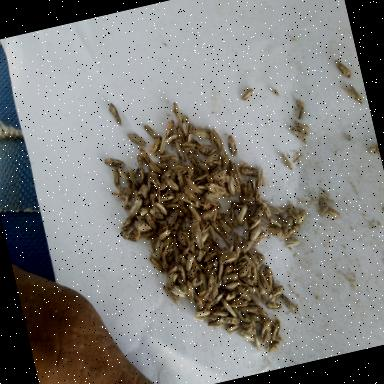pbw: (122, 195, 146, 220), (160, 112, 181, 140), (144, 134, 166, 160), (227, 289, 253, 310), (202, 272, 220, 302), (127, 128, 148, 152), (194, 288, 214, 312), (266, 316, 286, 340), (160, 170, 180, 194), (150, 237, 168, 263), (230, 162, 244, 195), (190, 124, 213, 144), (190, 135, 210, 158), (280, 291, 298, 316), (266, 284, 288, 304), (334, 56, 352, 80), (146, 251, 164, 275), (184, 172, 202, 196), (229, 196, 250, 216), (188, 218, 204, 244), (220, 296, 237, 320), (176, 198, 193, 222), (184, 260, 201, 284), (107, 101, 122, 128), (170, 282, 190, 302), (186, 151, 202, 176), (156, 242, 176, 262), (144, 158, 164, 178), (228, 243, 244, 268), (234, 282, 252, 304), (210, 126, 224, 154), (250, 179, 264, 207), (210, 218, 227, 241), (252, 166, 268, 190), (234, 204, 250, 228), (164, 270, 183, 290), (133, 154, 147, 181), (248, 263, 264, 286), (258, 268, 272, 294), (182, 184, 200, 204), (194, 243, 212, 263), (164, 208, 182, 228), (138, 145, 153, 169), (118, 215, 138, 233), (266, 220, 284, 240), (216, 250, 238, 266), (182, 122, 198, 144), (158, 249, 172, 274), (185, 278, 199, 303), (221, 231, 236, 254), (202, 190, 220, 209), (196, 156, 213, 176), (201, 249, 221, 266), (263, 264, 276, 290), (104, 154, 125, 170), (182, 230, 196, 254), (218, 216, 234, 237), (238, 164, 259, 180), (290, 125, 306, 146), (248, 308, 266, 326), (116, 182, 134, 200), (172, 100, 184, 127), (120, 228, 138, 246), (218, 314, 241, 328), (188, 202, 202, 225), (110, 187, 130, 203), (322, 204, 342, 220), (202, 150, 222, 166), (225, 134, 238, 158), (225, 173, 238, 197), (252, 284, 266, 306), (156, 135, 170, 157), (134, 217, 152, 234), (200, 144, 219, 160), (170, 239, 182, 264), (148, 171, 162, 192), (246, 214, 264, 230), (174, 140, 186, 164), (280, 216, 296, 234), (238, 192, 256, 208), (154, 218, 170, 236), (164, 262, 180, 280), (240, 318, 256, 336), (180, 113, 192, 137), (198, 268, 210, 292), (244, 252, 257, 274), (259, 200, 272, 222), (232, 304, 246, 324), (182, 252, 196, 272), (174, 228, 188, 248), (282, 224, 302, 238), (146, 213, 160, 233), (128, 167, 140, 190), (293, 117, 310, 133), (248, 225, 264, 242), (252, 231, 270, 246), (253, 302, 268, 320), (143, 123, 158, 141), (203, 298, 222, 312), (206, 205, 220, 224), (116, 164, 130, 183), (129, 224, 143, 243), (214, 262, 227, 282), (236, 262, 252, 278), (240, 330, 256, 346), (266, 201, 281, 218), (264, 298, 282, 312), (282, 150, 294, 171), (192, 172, 210, 186), (154, 200, 168, 218), (142, 228, 160, 242), (198, 208, 216, 222), (211, 170, 229, 184), (260, 328, 274, 346), (230, 260, 249, 273), (149, 234, 161, 254), (178, 262, 188, 286), (220, 154, 232, 174), (257, 280, 269, 300), (200, 259, 215, 275), (204, 266, 220, 281), (239, 88, 255, 103), (195, 198, 212, 212), (225, 322, 242, 336), (206, 156, 224, 169), (247, 248, 260, 266), (221, 272, 239, 285), (224, 280, 243, 292), (174, 124, 186, 143), (284, 234, 300, 248), (266, 340, 282, 354), (240, 274, 254, 290), (240, 239, 256, 253), (170, 160, 187, 173), (163, 133, 180, 146), (111, 168, 122, 188), (207, 223, 217, 245), (246, 178, 256, 200), (230, 231, 241, 251), (176, 169, 186, 191), (206, 317, 224, 329), (176, 274, 188, 292), (158, 152, 176, 164), (242, 308, 254, 326), (212, 307, 230, 319), (148, 192, 160, 210), (268, 215, 282, 230), (220, 263, 234, 278), (182, 144, 198, 157), (208, 165, 224, 178), (224, 212, 234, 232), (240, 303, 258, 314), (138, 204, 153, 217), (156, 230, 172, 242), (185, 164, 197, 180), (158, 190, 174, 202), (152, 206, 164, 222), (249, 202, 260, 219), (205, 312, 222, 323), (173, 206, 186, 220), (160, 168, 175, 180), (156, 160, 172, 171), (195, 308, 212, 318), (214, 290, 228, 302), (180, 139, 196, 149), (296, 106, 306, 121), (253, 334, 262, 350), (164, 202, 179, 210)
